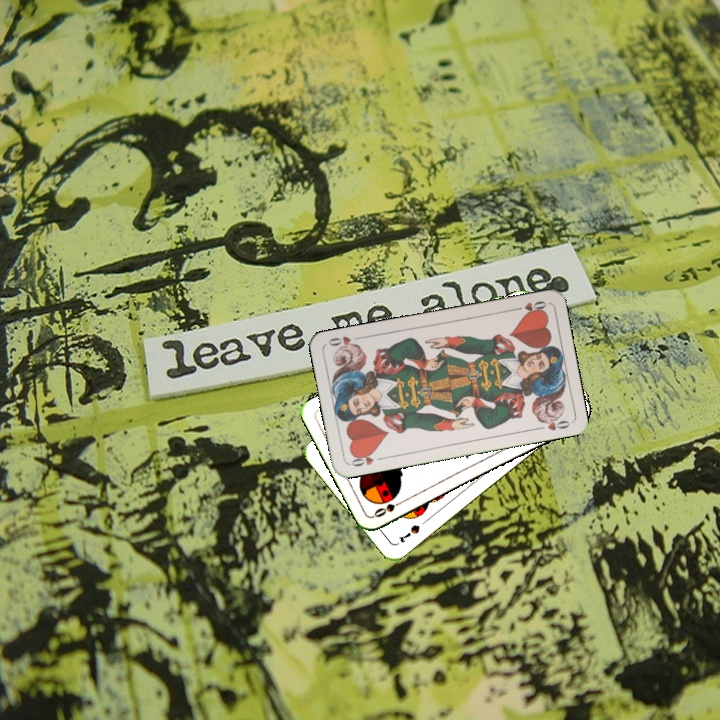HO: (346, 448, 387, 469), (509, 297, 549, 317)
S7: (394, 520, 422, 545)
SO: (370, 495, 408, 520)
